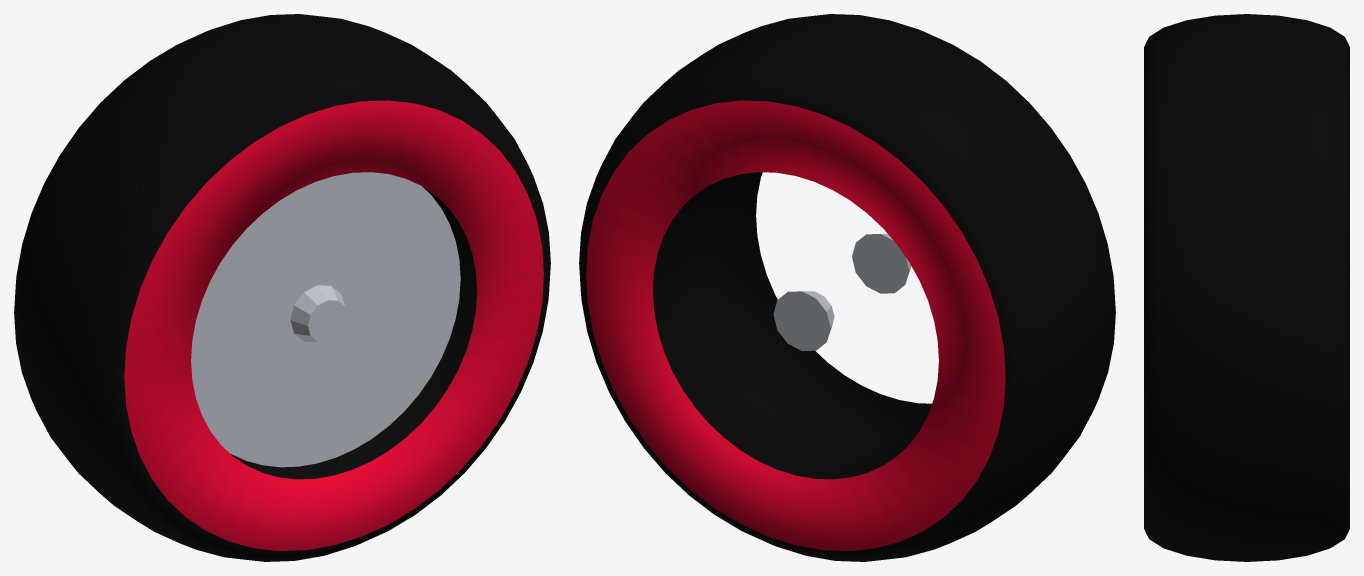
File: undercut.glb
3 views of the same model, side by side, from view 1: azimuth 30°, elevation 25°; view 2: azimuth 150°, elevation 25°; view 3: azimuth 270°, elevation 25° (orthographic).
Parts seen in each view (by area): view 1: undercut; view 2: undercut; view 3: undercut.
Boxes of the visible parts, x1,y1,x2,y2 form: undercut: (14,14,550,561); undercut: (579,14,1115,561); undercut: (1144,14,1349,561).
Size of the model in its own units: 6.4 by 6.4 by 2.4.
